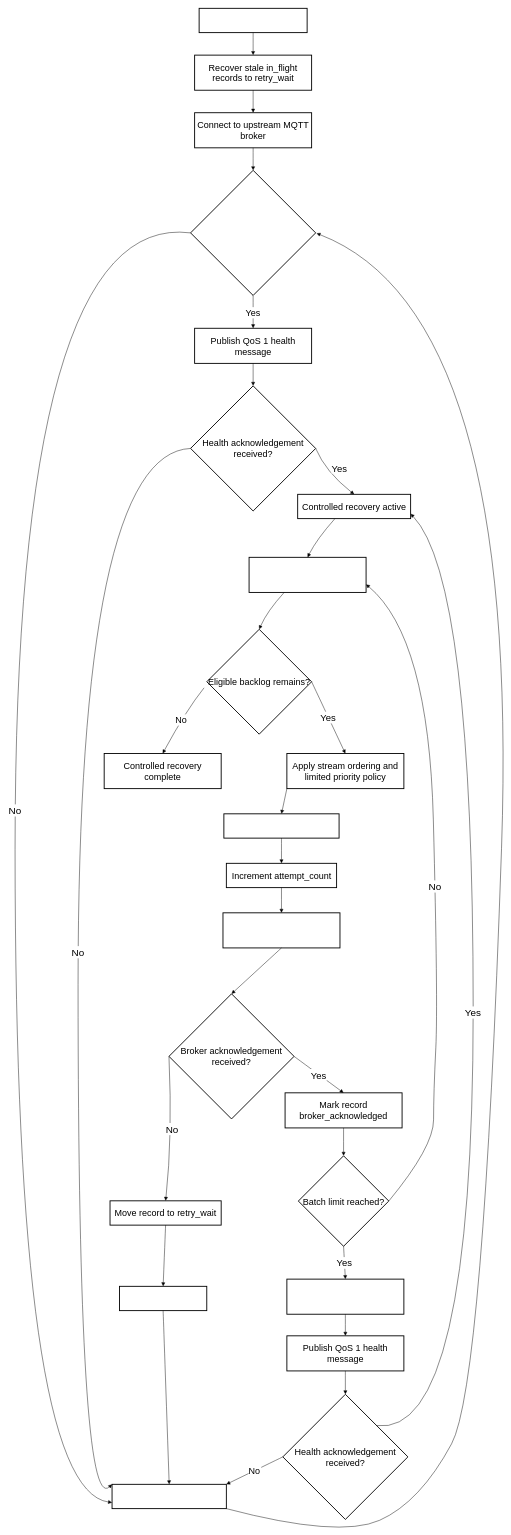
This 511x1535 diagram has some shape labels left out. Each missing label, with the box of its shape:
Connection stable for configured period?: (190, 170, 316, 296)
Mark selected row in_flight: (223, 813, 339, 838)
Pause for configured batch interval: (286, 1278, 404, 1314)
Publish telemetry using QoS 1: (222, 912, 340, 948)
Select eligible pending or retry_wait stream head: (248, 557, 366, 593)
Start controlled recovery: (198, 8, 307, 33)
Stop current batch: (119, 1286, 207, 1311)
Wait before checking again: (111, 1484, 227, 1509)
